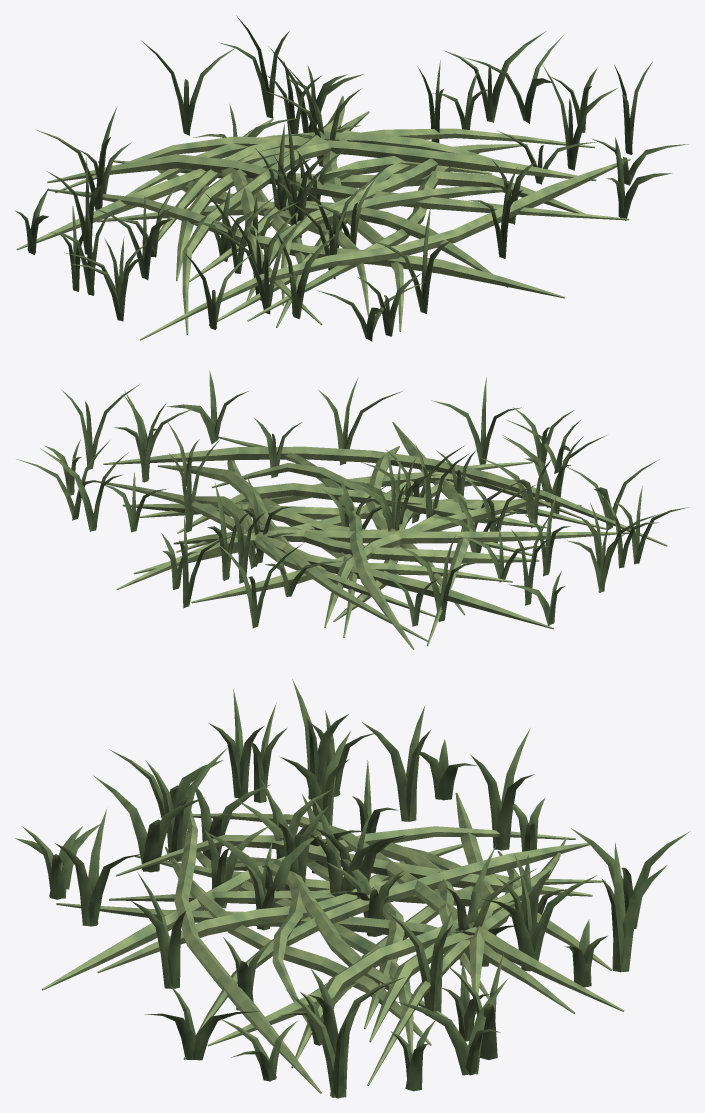
Rendered from underworld-ground-rootgrass-carpet.glb.
3 renders of one model, top to bottom at view 1: azimuth 30°, elevation 25°; view 2: azimuth 150°, elevation 25°; view 3: azimuth 270°, elevation 25°, orthographic. The views are drawn at different scales.
Parts seen in each view (by area): view 1: woven-runners, root-grass; view 2: woven-runners, root-grass; view 3: root-grass, woven-runners.
Boxes of the visible parts, <box> form: woven-runners: <box>16,96,630,340</box>; root-grass: <box>15,15,688,341</box>; woven-runners: <box>97,422,667,649</box>; root-grass: <box>16,370,688,628</box>; root-grass: <box>15,679,689,1098</box>; woven-runners: <box>41,792,624,1093</box>.
Size of the model in its own units: 4.07 by 0.5573 by 3.37.
2 materials, 2 textured.
